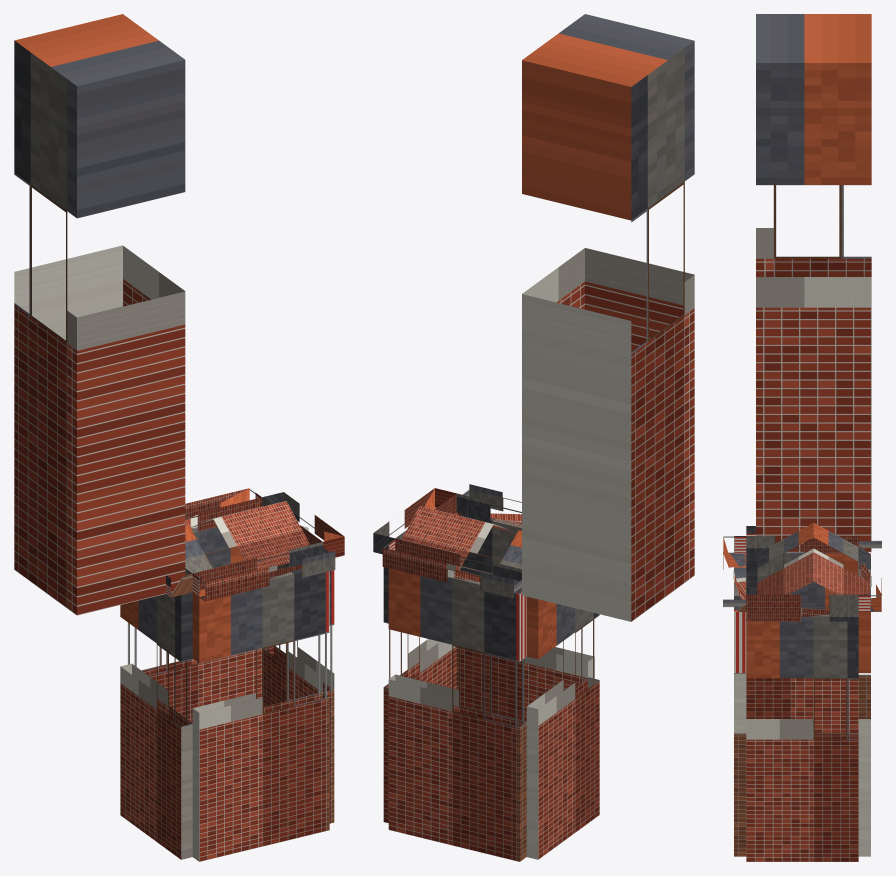
3 views of the same model, side by side, from view 1: azimuth 30°, elevation 25°; view 2: azimuth 150°, elevation 25°; view 3: azimuth 270°, elevation 25° (orthographic). The views are drawn at different scales.
Visible parts, largest first — view 1: 1107169164__chimney_0_xb, 1107169164__wall_2_xb, 1107169164__wall_3_xb, 1107169164__wall_0_xb, 1107169164_roof_-1_xb, 1107169164__wall_1_xb, 1107169164__cornice_2, 1107169164__cornice_0, 1107169164__cornice_1; view 2: 1107169164__chimney_0_xb, 1107169164__wall_0_xb, 1107169164__wall_3_xb, 1107169164__wall_2_xb, 1107169164__cornice_0, 1107169164_roof_1_xb, 1107169164__wall_1_xb, 1107169164__cornice_2, 1107169164__cornice_1; view 3: 1107169164__chimney_0_xb, 1107169164__wall_1_xb, 1107169164__wall_3_xb, 1107169164__wall_2_xb, 1107169164__wall_0_xb, 1107169164__cornice_1, 1107169164_roof_-1_xb, 1107169164_roof_1_xb, 1107169164__cornice_2, 1107169164__cornice_3, 1107169164__cornice_0.
Part boxes in pixels (bbox=[...]): 1107169164__chimney_0_xb: bbox=[14, 14, 185, 615]; 1107169164__wall_2_xb: bbox=[192, 568, 329, 861]; 1107169164__wall_3_xb: bbox=[120, 592, 192, 859]; 1107169164__wall_0_xb: bbox=[128, 526, 261, 723]; 1107169164_roof_-1_xb: bbox=[185, 501, 310, 573]; 1107169164__wall_1_xb: bbox=[262, 563, 334, 823]; 1107169164__cornice_2: bbox=[192, 542, 335, 601]; 1107169164__cornice_0: bbox=[185, 488, 261, 531]; 1107169164__cornice_1: bbox=[262, 492, 344, 557]; 1107169164__chimney_0_xb: bbox=[522, 14, 694, 621]; 1107169164__wall_0_xb: bbox=[388, 568, 526, 861]; 1107169164__wall_3_xb: bbox=[526, 596, 599, 859]; 1107169164__wall_2_xb: bbox=[456, 512, 594, 721]; 1107169164__cornice_0: bbox=[382, 538, 521, 598]; 1107169164_roof_1_xb: bbox=[401, 506, 521, 593]; 1107169164__wall_1_xb: bbox=[383, 513, 456, 823]; 1107169164__cornice_2: bbox=[456, 484, 521, 527]; 1107169164__cornice_1: bbox=[373, 488, 456, 554]; 1107169164__chimney_0_xb: bbox=[756, 14, 871, 552]; 1107169164__wall_1_xb: bbox=[746, 614, 858, 861]; 1107169164__wall_3_xb: bbox=[746, 552, 858, 733]; 1107169164__wall_2_xb: bbox=[734, 553, 746, 856]; 1107169164__wall_0_xb: bbox=[858, 553, 870, 856]; 1107169164__cornice_1: bbox=[746, 594, 858, 621]; 1107169164_roof_-1_xb: bbox=[757, 523, 813, 594]; 1107169164_roof_1_xb: bbox=[813, 523, 869, 594]; 1107169164__cornice_2: bbox=[723, 536, 746, 611]; 1107169164__cornice_3: bbox=[746, 526, 858, 553]; 1107169164__cornice_0: bbox=[858, 541, 881, 611].
Size of the model in its own units: 0.363 by 1.05 by 0.2059.
Materials: 1 (1 with a texture image).
